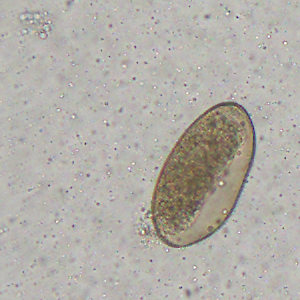Fasciola_hepatica_egg: (151, 101, 256, 250)
